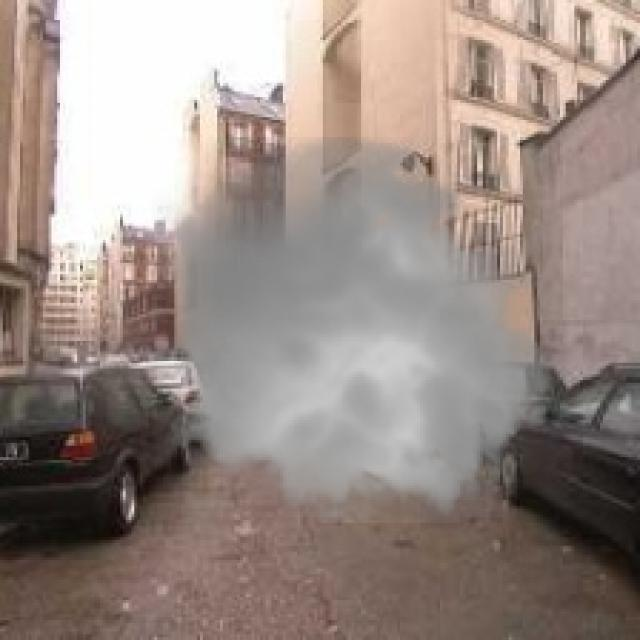Smoke: (152, 123, 568, 540)
